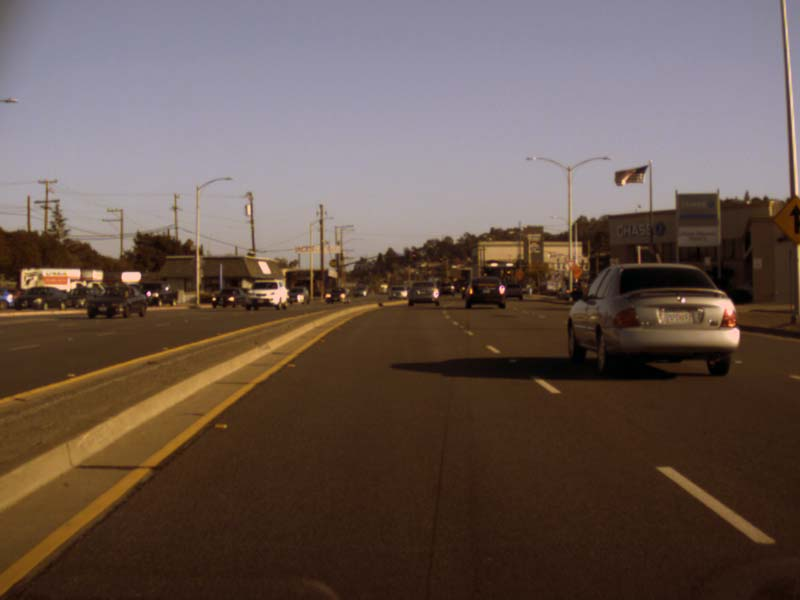Yellow: (412, 253, 417, 260)
